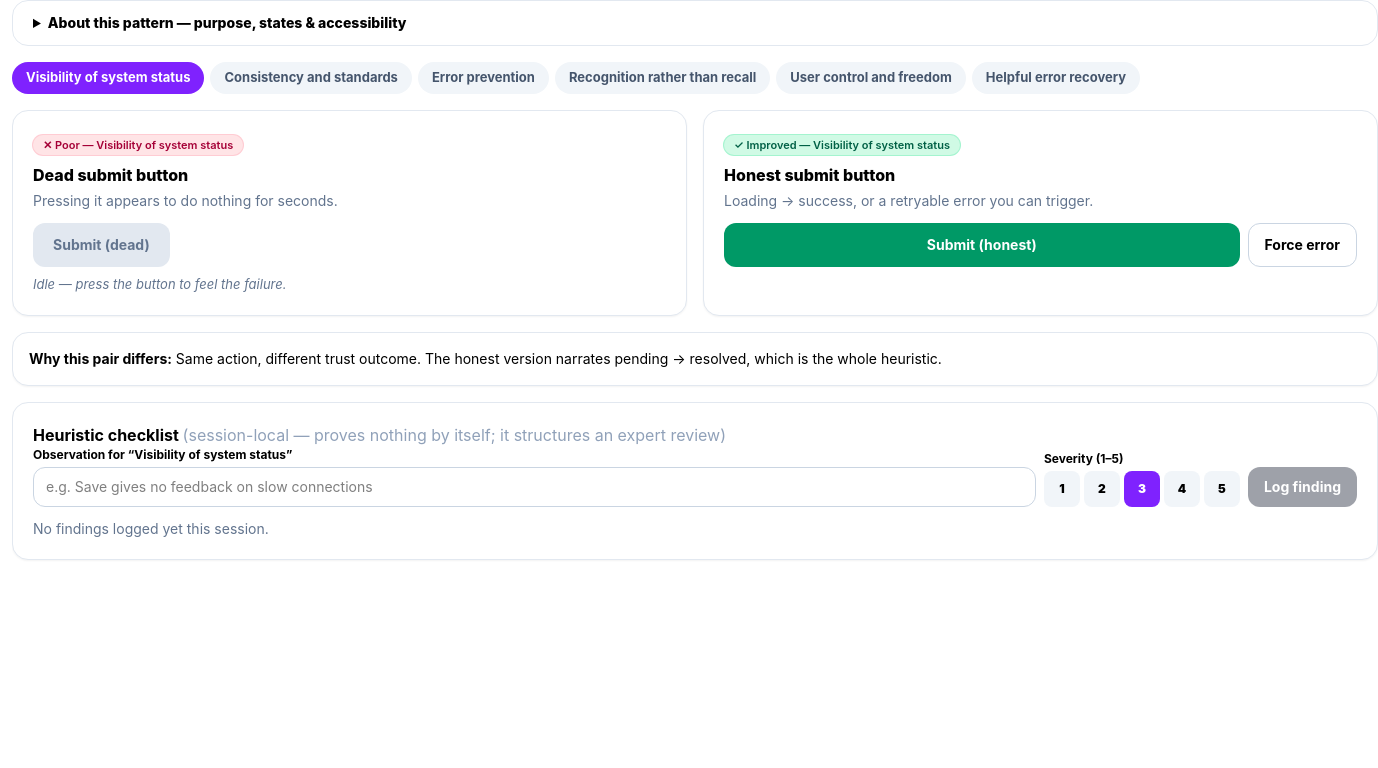
Scenario: heuristics lab › switches heuristics and logs checklist findings with severity
Click the button "Error prevention".
click(483, 78)  # box [418, 62, 549, 94]
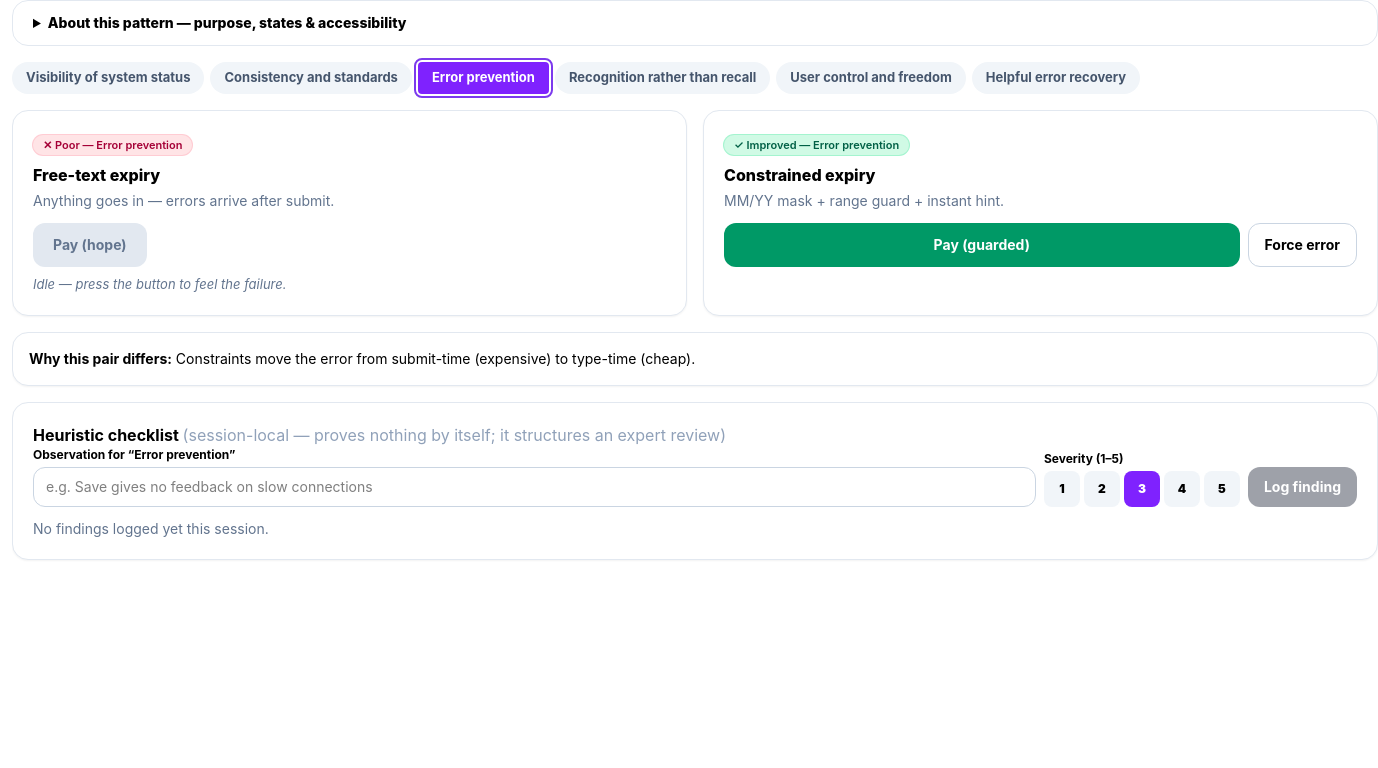
Expected: the heading "Free-text expiry" is shown, [33, 165, 160, 185]
Type "Expiry accepts nonsense" into the field labelled "Observation for “Error prevention”".
click(534, 486); type("Expiry accepts nonsense")  # box [33, 466, 1036, 506]
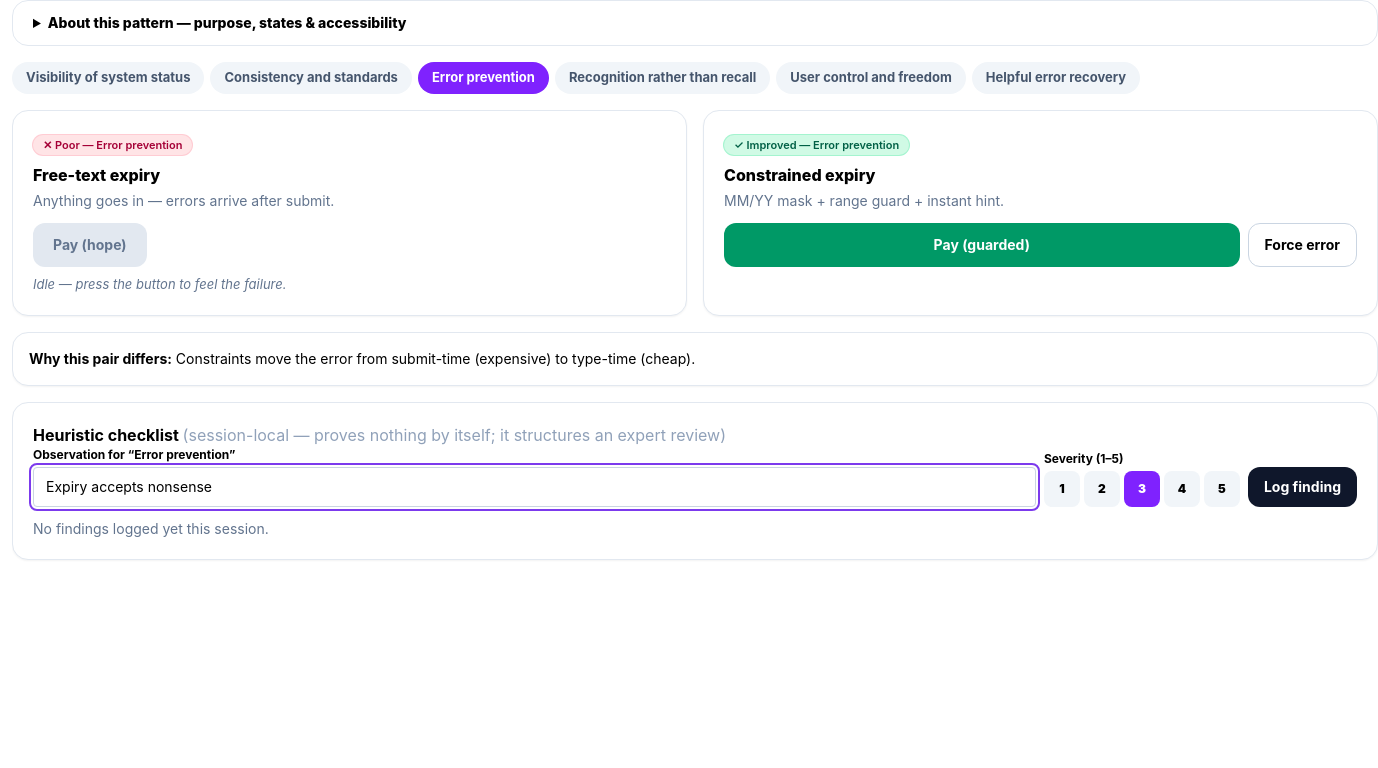
Click the radio button named "Severity 4".
click(1182, 488)  # box [1164, 470, 1200, 506]
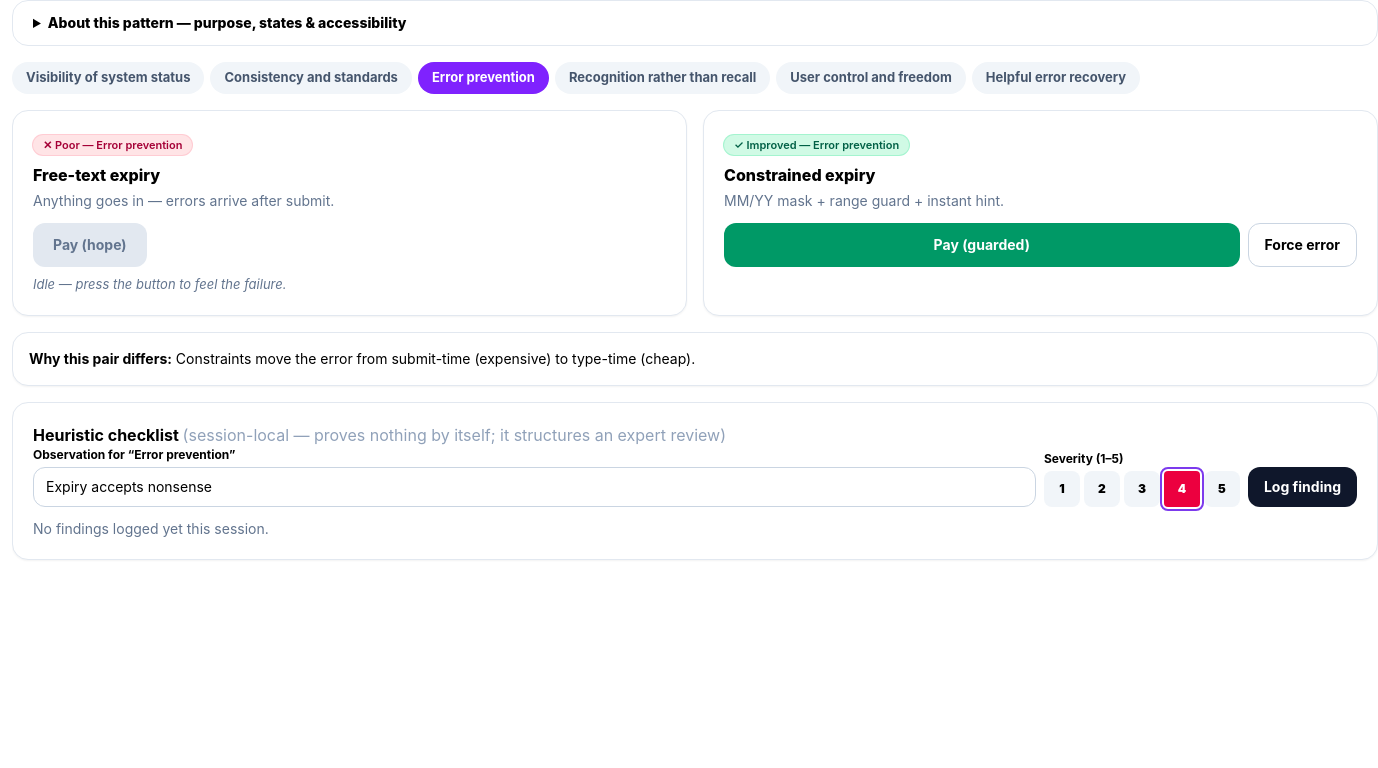
Click the button "Log finding".
click(1302, 486)  # box [1248, 466, 1357, 506]
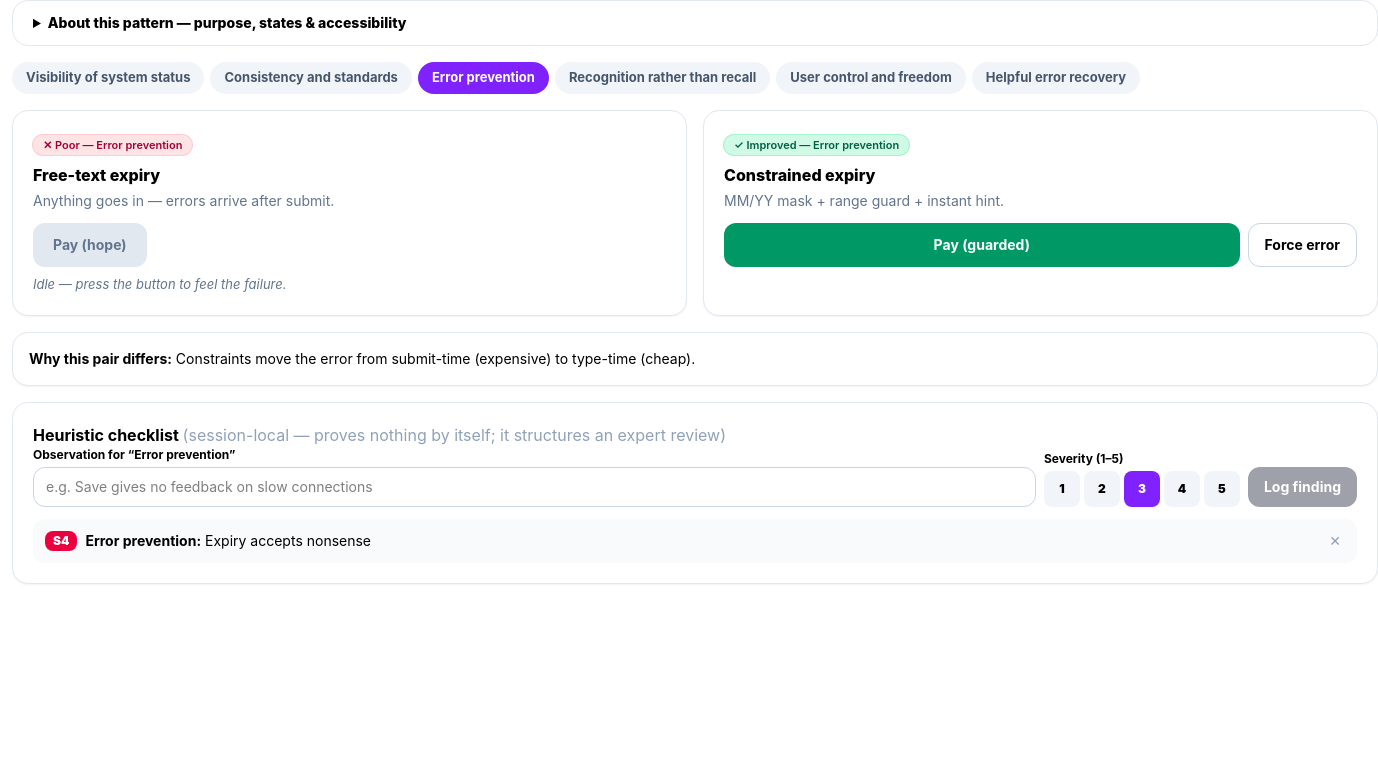
Expected: the text "S4" is shown, [45, 530, 77, 550]
Click the button named "remove finding 1".
click(1335, 540)  # box [1325, 526, 1345, 554]
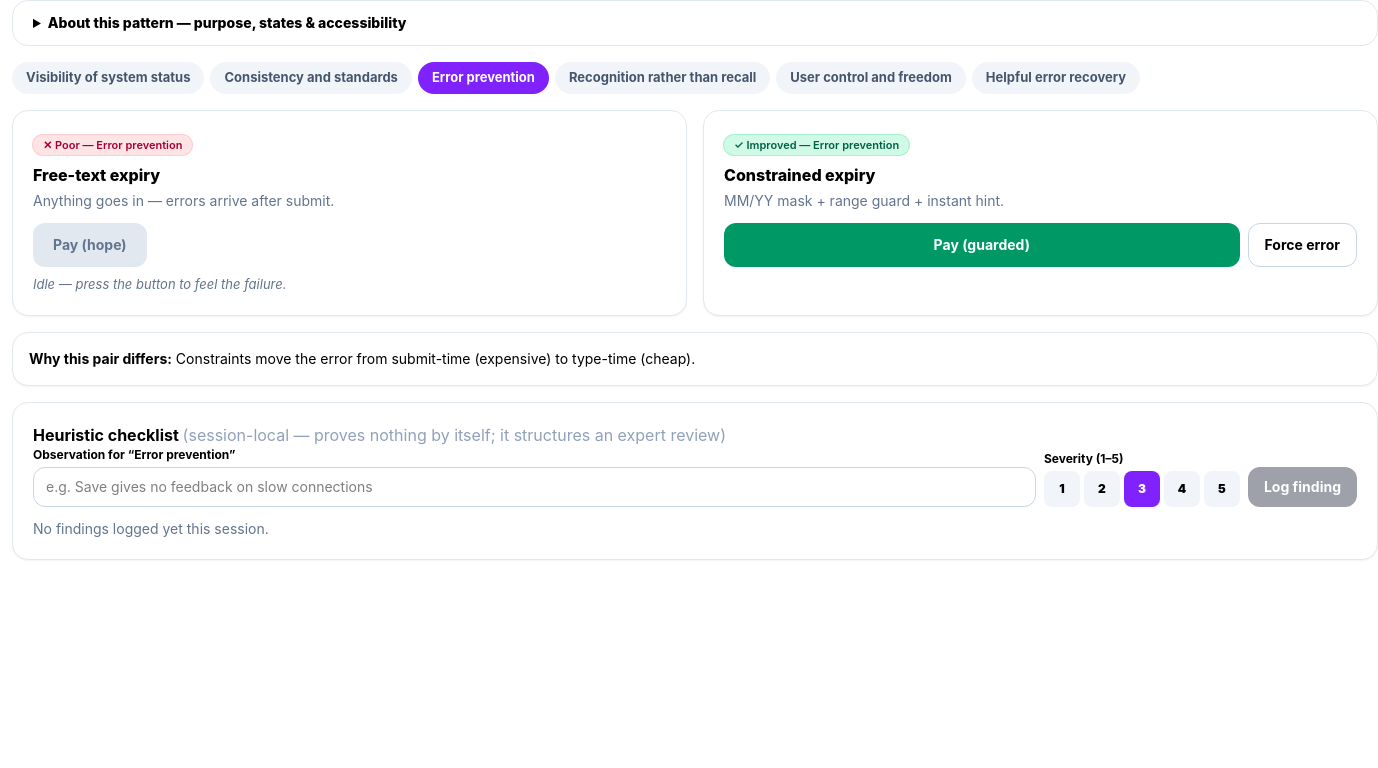
Expected: the text "S4" is gone
